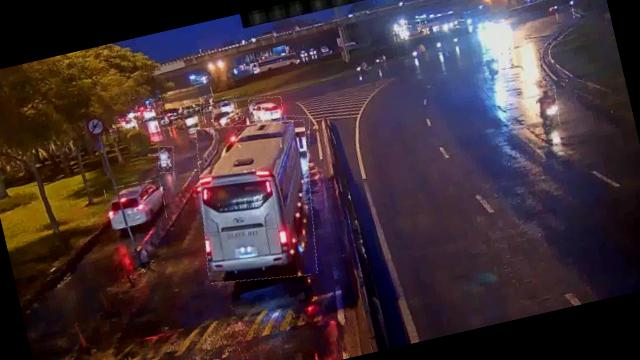Bike: (534, 86, 562, 129), (155, 145, 178, 175), (482, 53, 504, 83)
Bus: (182, 110, 333, 293)
Car: (103, 178, 168, 230), (280, 112, 314, 150), (247, 93, 284, 124), (210, 105, 242, 130), (178, 108, 204, 130), (210, 96, 238, 116)
Truck: (167, 84, 214, 115)
